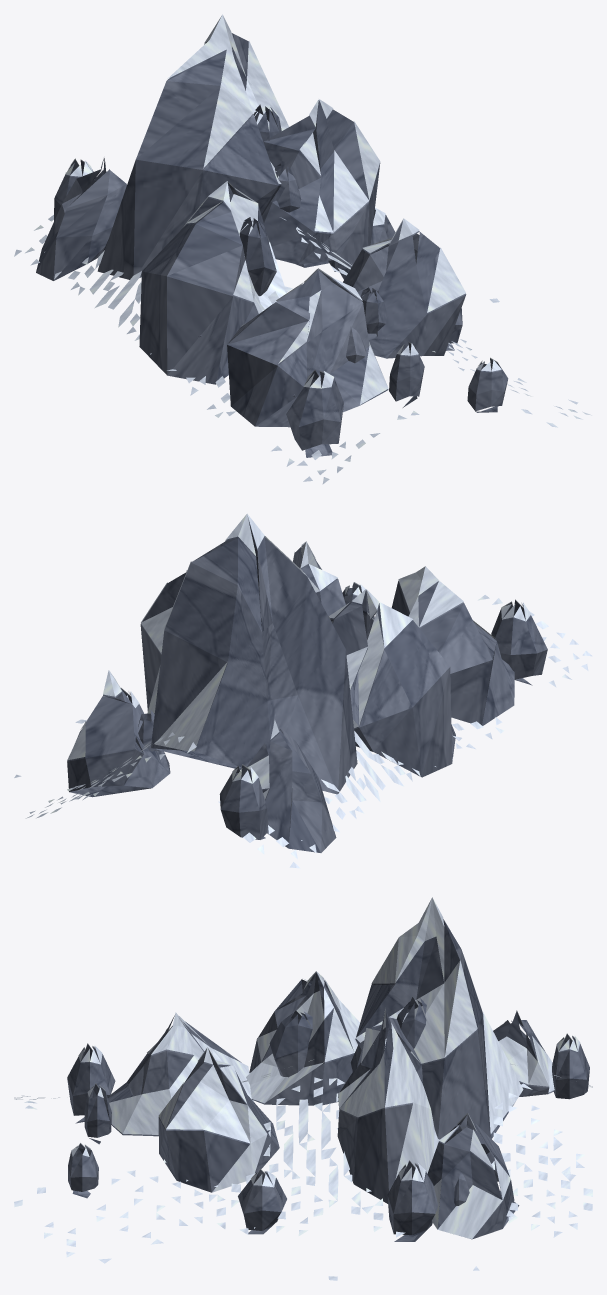
File: longmarch-object.glb
3 renders of one model, top to bottom at view 1: azimuth 30°, elevation 25°; view 2: azimuth 150°, elevation 25°; view 3: azimuth 270°, elevation 25°, orthographic. The views are drawn at different scales.
Visible parts, largest first — view 1: longmarch-object-landmark; view 2: longmarch-object-landmark; view 3: longmarch-object-landmark.
Boxes of the visible parts, x1,y1,x2,y2 form: longmarch-object-landmark: (14, 14, 591, 484); longmarch-object-landmark: (14, 513, 592, 868); longmarch-object-landmark: (14, 897, 592, 1280).
Size of the model in its own units: 0.6387 by 0.5232 by 0.9659.
Materials: 2 (2 with a texture image).
